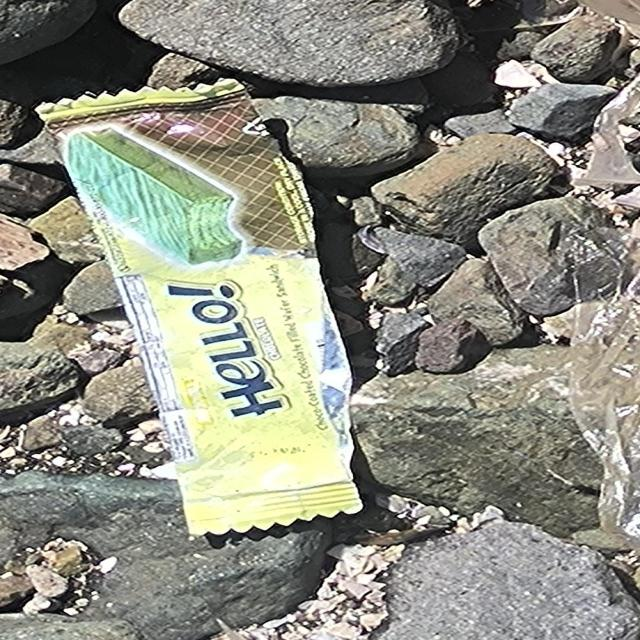plastic_waste: (33, 77, 369, 539)
